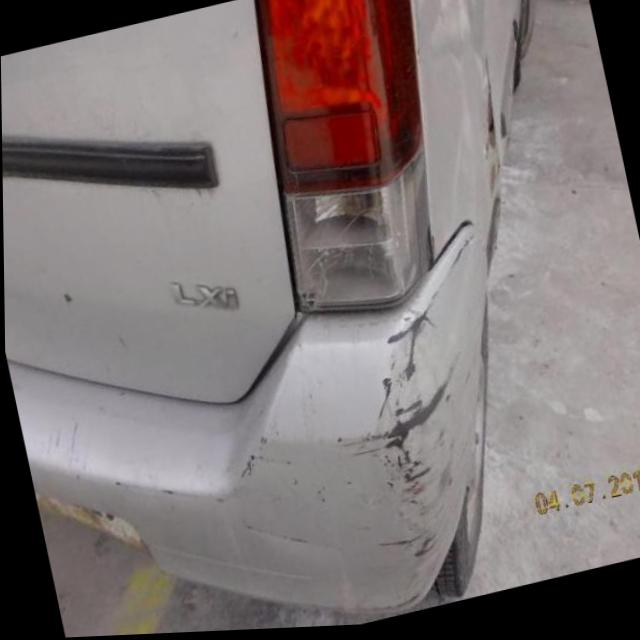Car-Damage: (296, 226, 545, 589), (105, 430, 309, 533), (460, 54, 522, 214)
